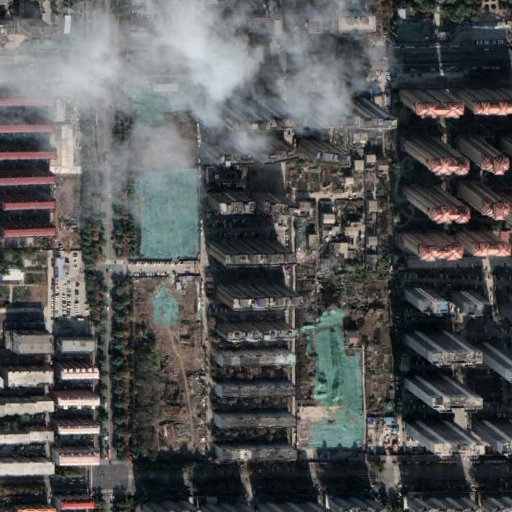cw: (109, 80, 202, 260), (299, 307, 366, 450)
